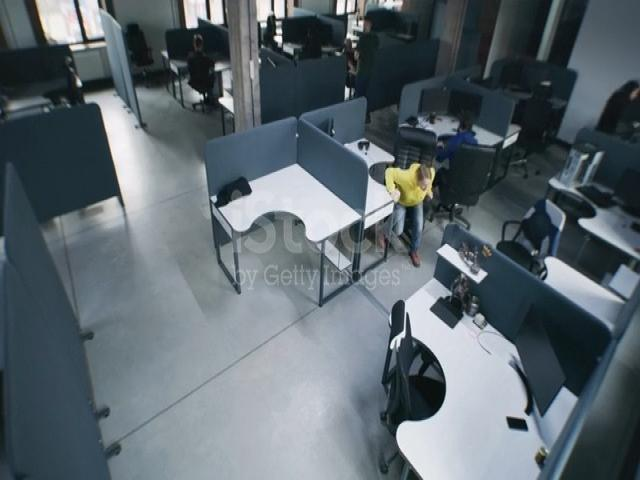empty chair: (493, 170, 580, 311), (380, 285, 430, 458), (50, 47, 107, 150), (524, 74, 563, 154), (121, 21, 166, 90), (612, 114, 640, 154)
occupiedchair: (391, 107, 449, 161), (183, 61, 237, 116), (448, 136, 497, 178), (338, 56, 373, 100)
